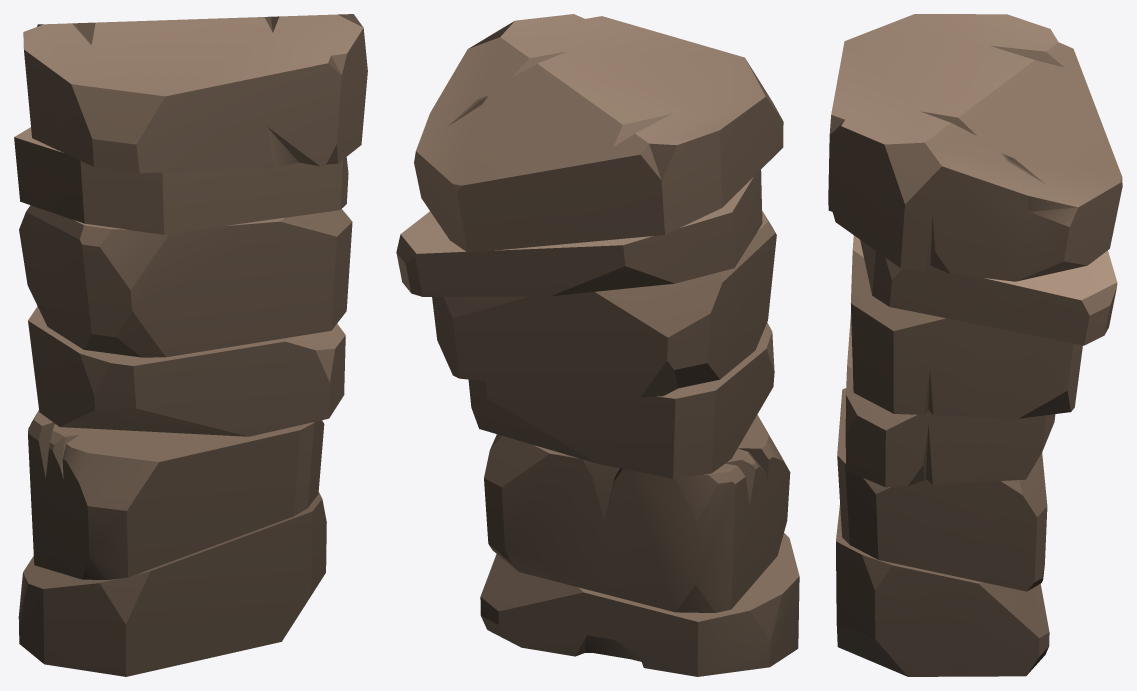
The model's file is Cliff_Vertical_4A.fbx.
3 renders of one model, left to right at view 1: azimuth 30°, elevation 25°; view 2: azimuth 150°, elevation 25°; view 3: azimuth 270°, elevation 25°, orthographic. The views are drawn at different scales.
Parts seen in each view (by area): view 1: Cliff_Vertical_4A; view 2: Cliff_Vertical_4A; view 3: Cliff_Vertical_4A.
Boxes of the visible parts, x1,y1,x2,y2 form: Cliff_Vertical_4A: [14, 14, 367, 676]; Cliff_Vertical_4A: [396, 14, 799, 676]; Cliff_Vertical_4A: [828, 14, 1122, 676].
Size of the model in its own units: 1199 by 1992 by 962.
